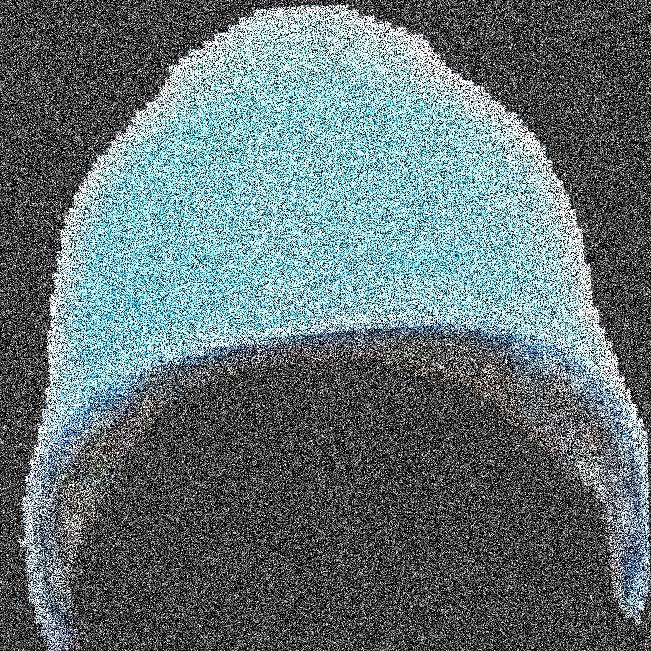Capacete: (9, 0, 649, 650)
